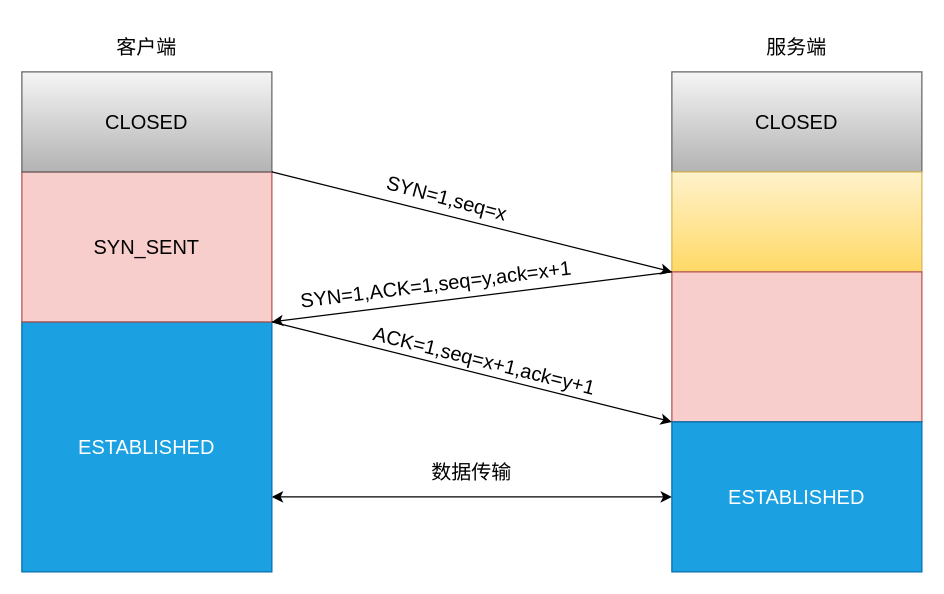
The diagram is 944 pixels wide and 594 high, and some of its shapes have lost their labels. Here are the shapes that lost their labels. From the top down, the centre of each, then its label:
At [796,221]: "LISTEN".
At [796,346]: "SYN_RCVD".
